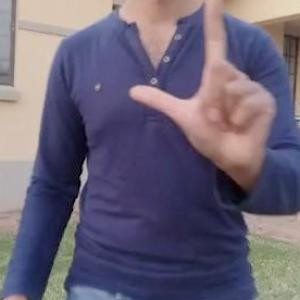land_hand: (125, 0, 278, 175)
